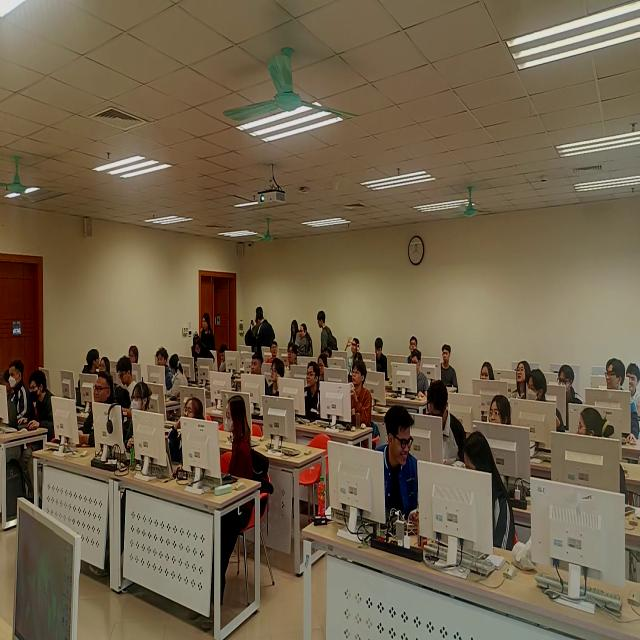raise_hand: (345, 335, 363, 378)
raise_head: (78, 373, 116, 450), (168, 398, 206, 471), (528, 370, 566, 433), (125, 382, 152, 458), (352, 361, 373, 428), (558, 365, 586, 407), (305, 362, 323, 421), (440, 345, 459, 395), (626, 364, 640, 424), (155, 347, 173, 392), (511, 362, 532, 400), (488, 395, 512, 428), (251, 354, 270, 395), (268, 358, 285, 399), (287, 343, 299, 372), (409, 337, 421, 365), (481, 361, 496, 381), (267, 343, 280, 364), (100, 356, 112, 377)
stand: (319, 311, 339, 357), (245, 307, 264, 355), (192, 332, 216, 370), (256, 313, 277, 350), (201, 313, 216, 356), (300, 324, 315, 359), (290, 320, 302, 351)
using_computer: (428, 381, 469, 467), (28, 371, 58, 443), (9, 360, 36, 431), (117, 357, 138, 405), (411, 350, 430, 399), (1, 366, 16, 416), (375, 338, 389, 381), (217, 345, 230, 372), (319, 354, 329, 383), (129, 345, 140, 365), (353, 355, 364, 368), (324, 348, 333, 359)
